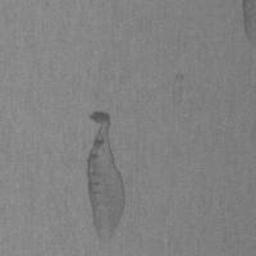Water spot: (86, 110, 127, 246), (241, 0, 256, 46), (170, 73, 186, 108)
